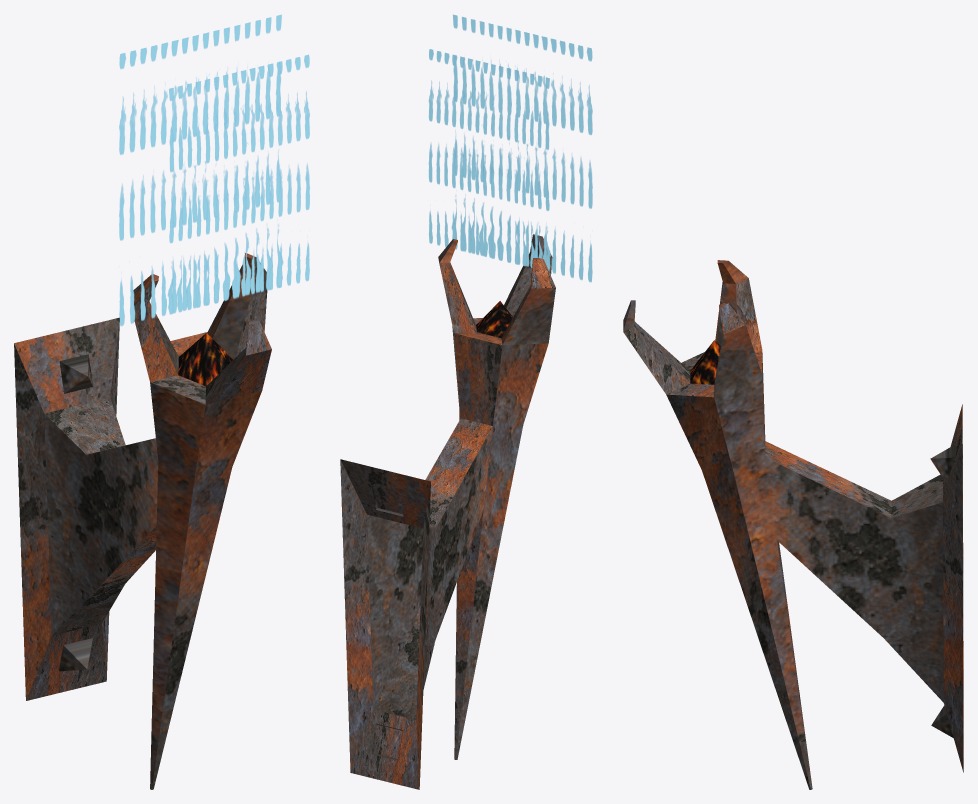
The model's file is mm9_deco_bluetorch.glb.
3 views of the same model, side by side, from view 1: azimuth 30°, elevation 25°; view 2: azimuth 150°, elevation 25°; view 3: azimuth 270°, elevation 25° (orthographic). The views are drawn at different scales.
Parts seen in each view (by area): view 1: Bluetorch; view 2: Bluetorch; view 3: Bluetorch.
Boxes of the visible parts, left/top/right/bottom form: Bluetorch: left=14, top=14, right=309, bottom=789; Bluetorch: left=340, top=14, right=592, bottom=789; Bluetorch: left=623, top=260, right=963, bottom=789.
Bounding box in the file's own units: 0.35 × 1.38 × 0.5817.
2 materials, 2 textured.
